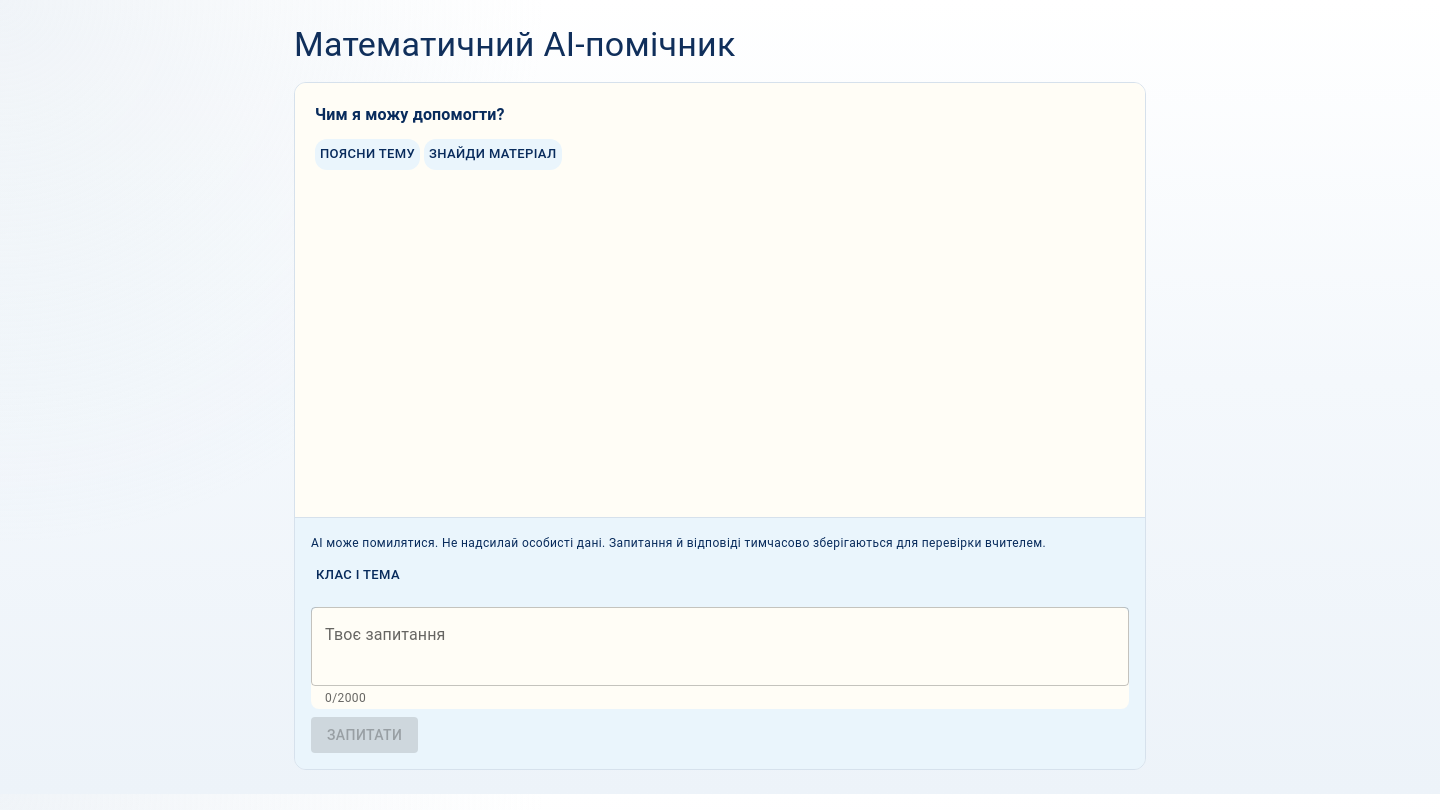
it: AssistantPage › shows only the two starter suggestions and fills the draft when selected
expect the text "Чим я можу допомогти?" is shown: met, box [315,105,504,124]
Click the button "Поясни тему" at point(368, 154), box [315,139,420,170]
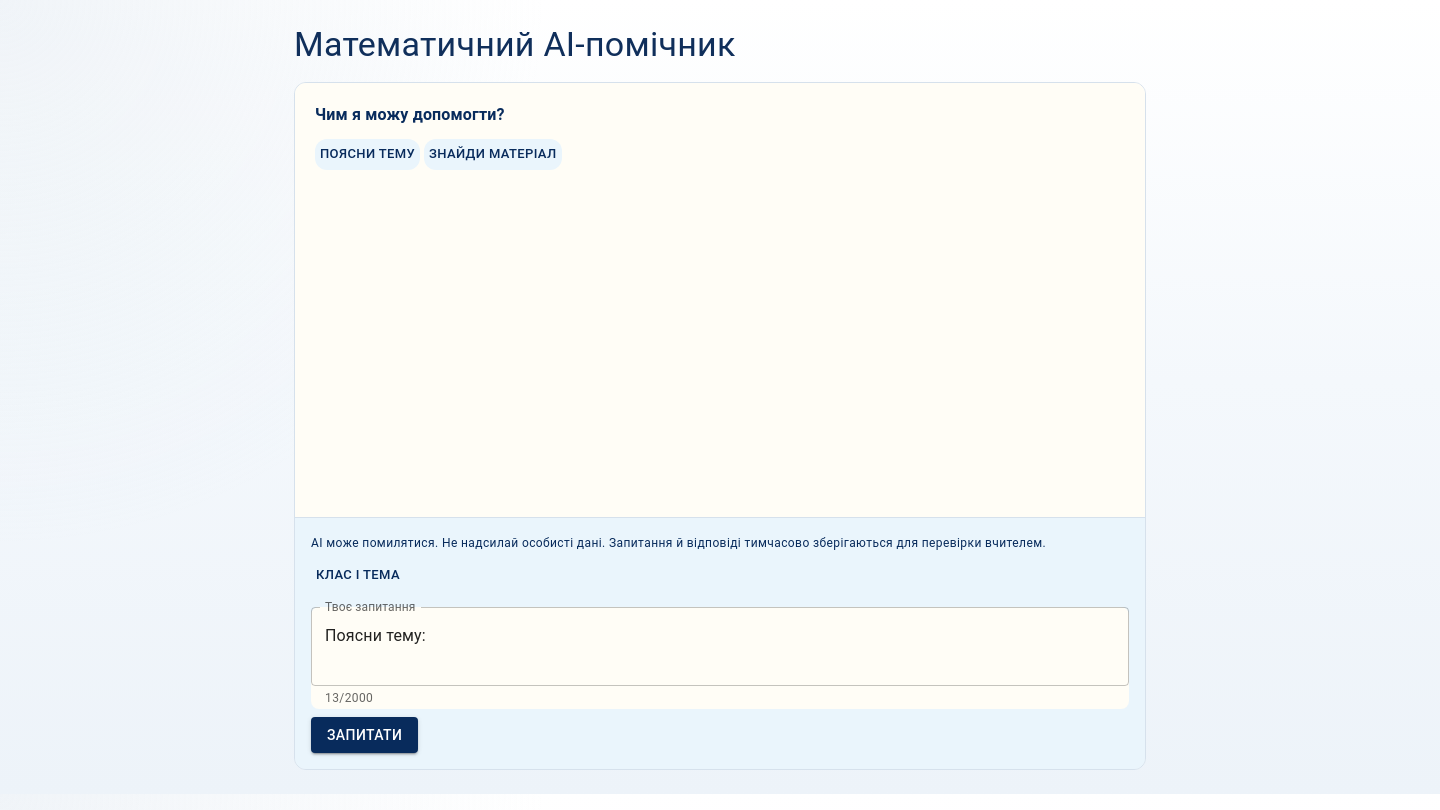
expect the text box labelled "Твоє запитання" holds "Поясни тему: ": met, box [325,624,1115,670]
Click the button "Знайди матеріал" at point(493, 154), box [424,139,562,170]
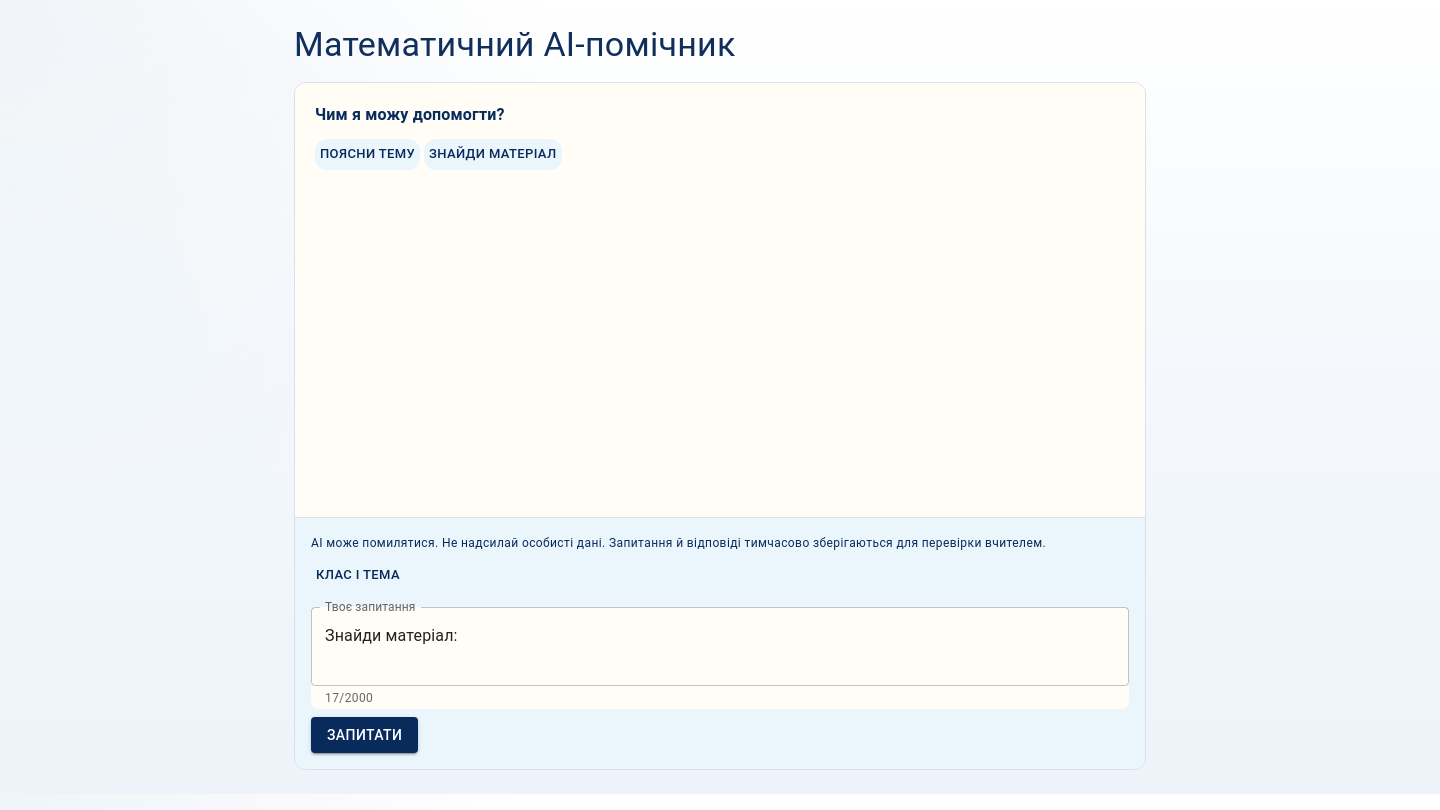
expect the text box labelled "Твоє запитання" holds "Знайди матеріал: ": met, box [325,624,1115,670]
